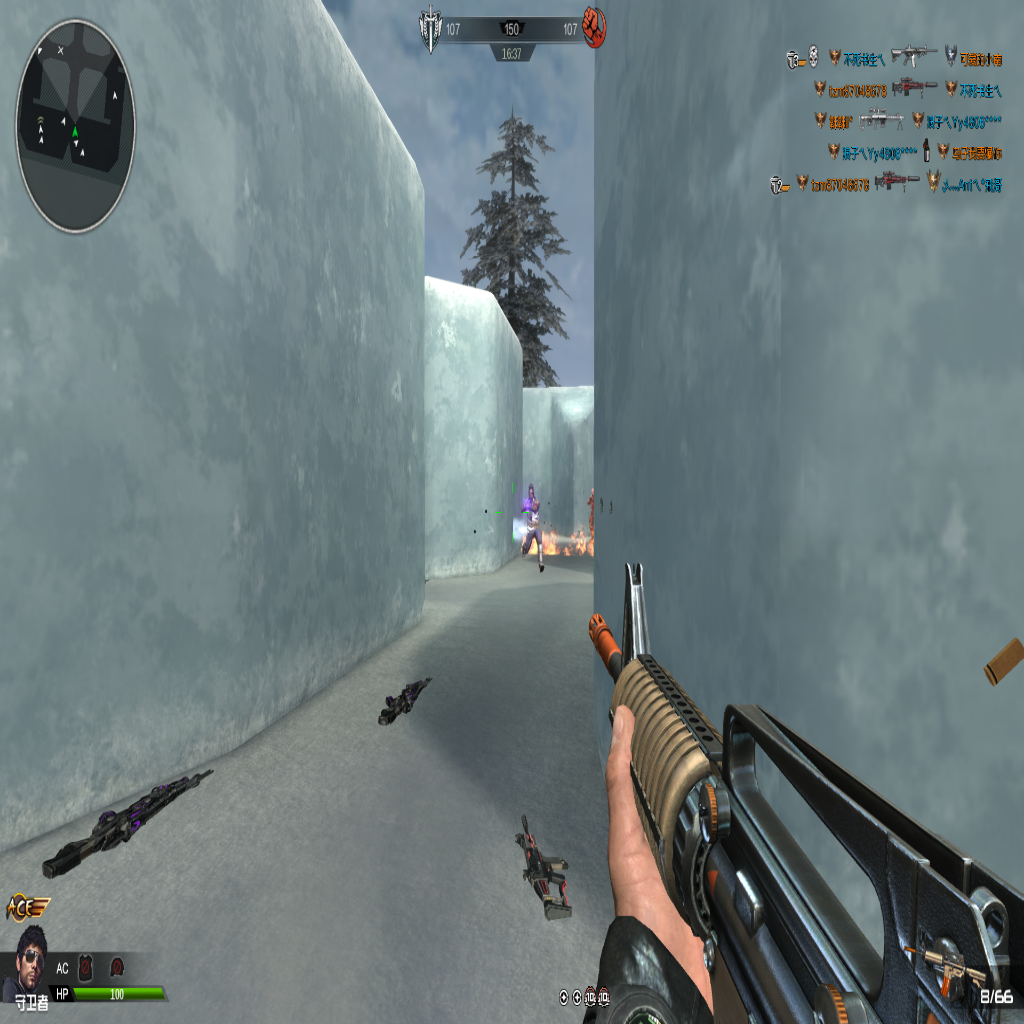tt: (519, 485, 546, 570)
